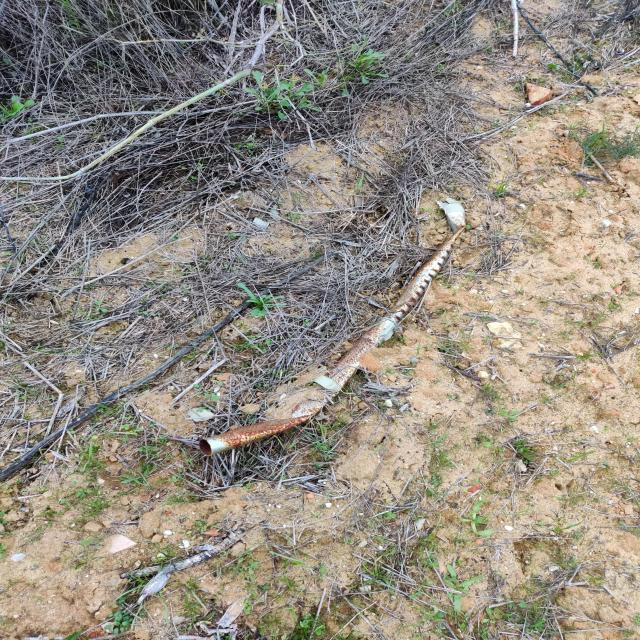litter: (198, 229, 465, 454)
